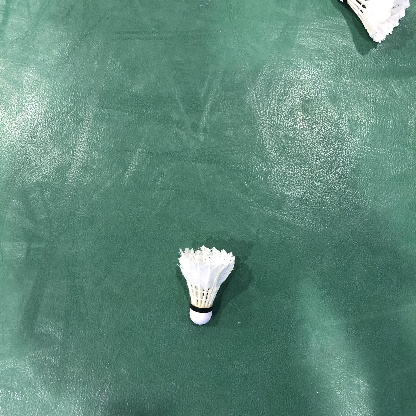ball_single: (179, 245, 236, 324), (339, 0, 410, 43)
